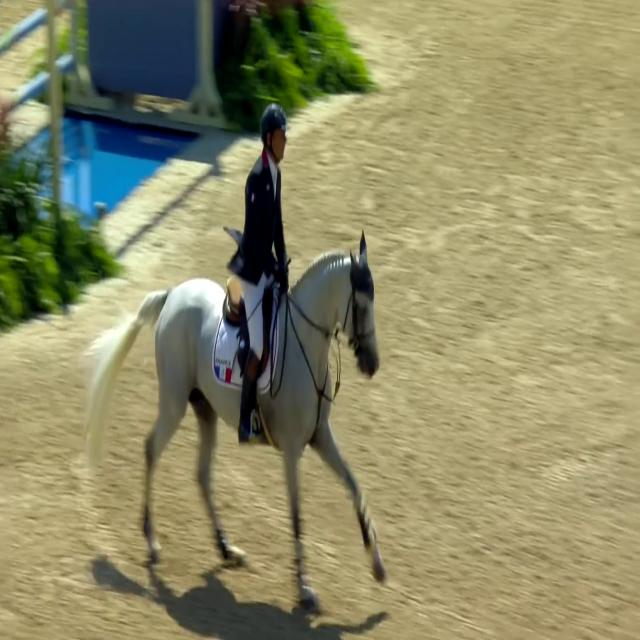Horse Rider: (228, 75, 304, 454)
Horse Running: (82, 209, 403, 616)
